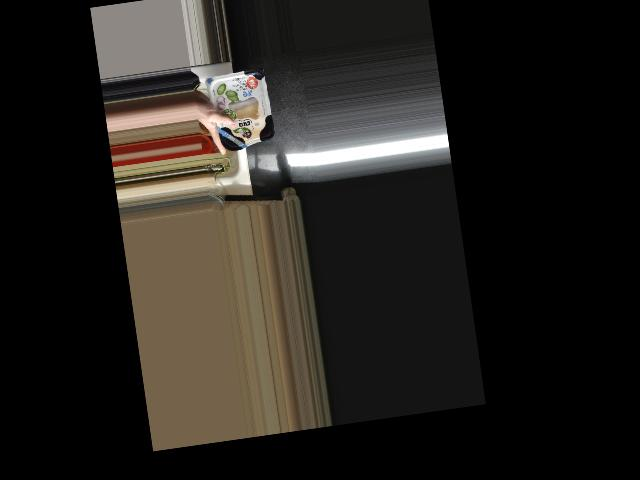cheese: (205, 70, 275, 153)
